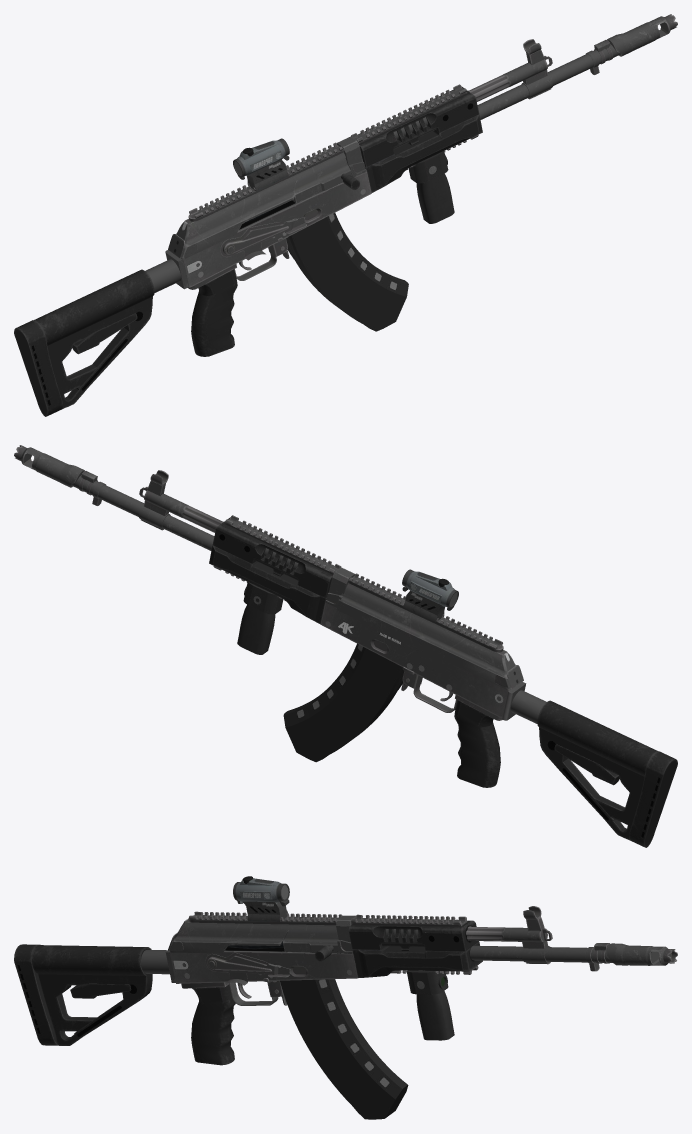
The picture shows the model from 3 angles, top to bottom: view 1: azimuth 30°, elevation 25°; view 2: azimuth 150°, elevation 25°; view 3: azimuth 330°, elevation 25°; orthographic projection.
Visible parts, largest first — view 1: Object_3, Object_4; view 2: Object_3, Object_4; view 3: Object_3, Object_4.
Part boxes in pixels (x1,y1,x2,y2): Object_3: (14, 14, 677, 416); Object_4: (16, 17, 670, 416); Object_3: (14, 445, 677, 847); Object_4: (21, 448, 675, 847); Object_3: (31, 878, 677, 1118); Object_4: (14, 876, 675, 1119).
Size of the model in its own units: 1.05 by 0.3919 by 0.0728.
2 materials, 2 textured.
